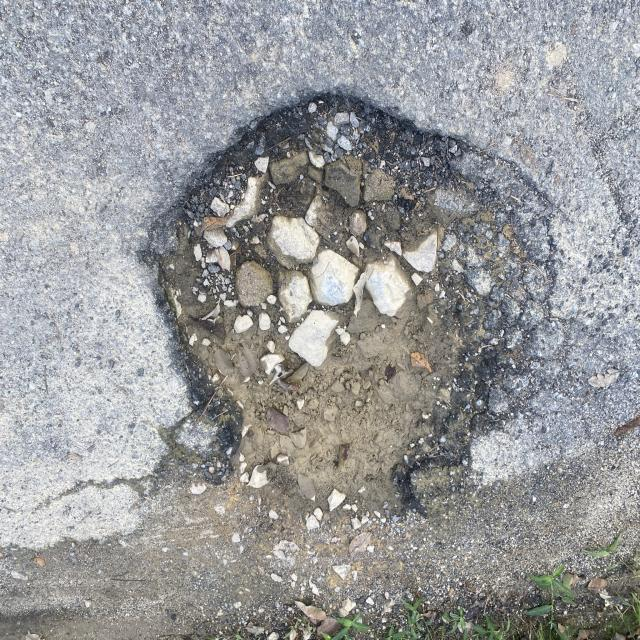pothole: (116, 31, 575, 574)
